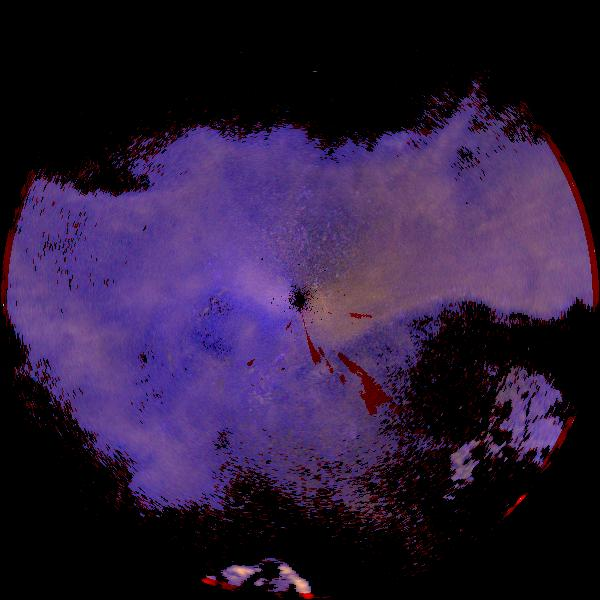roost: (160, 349, 184, 373)
